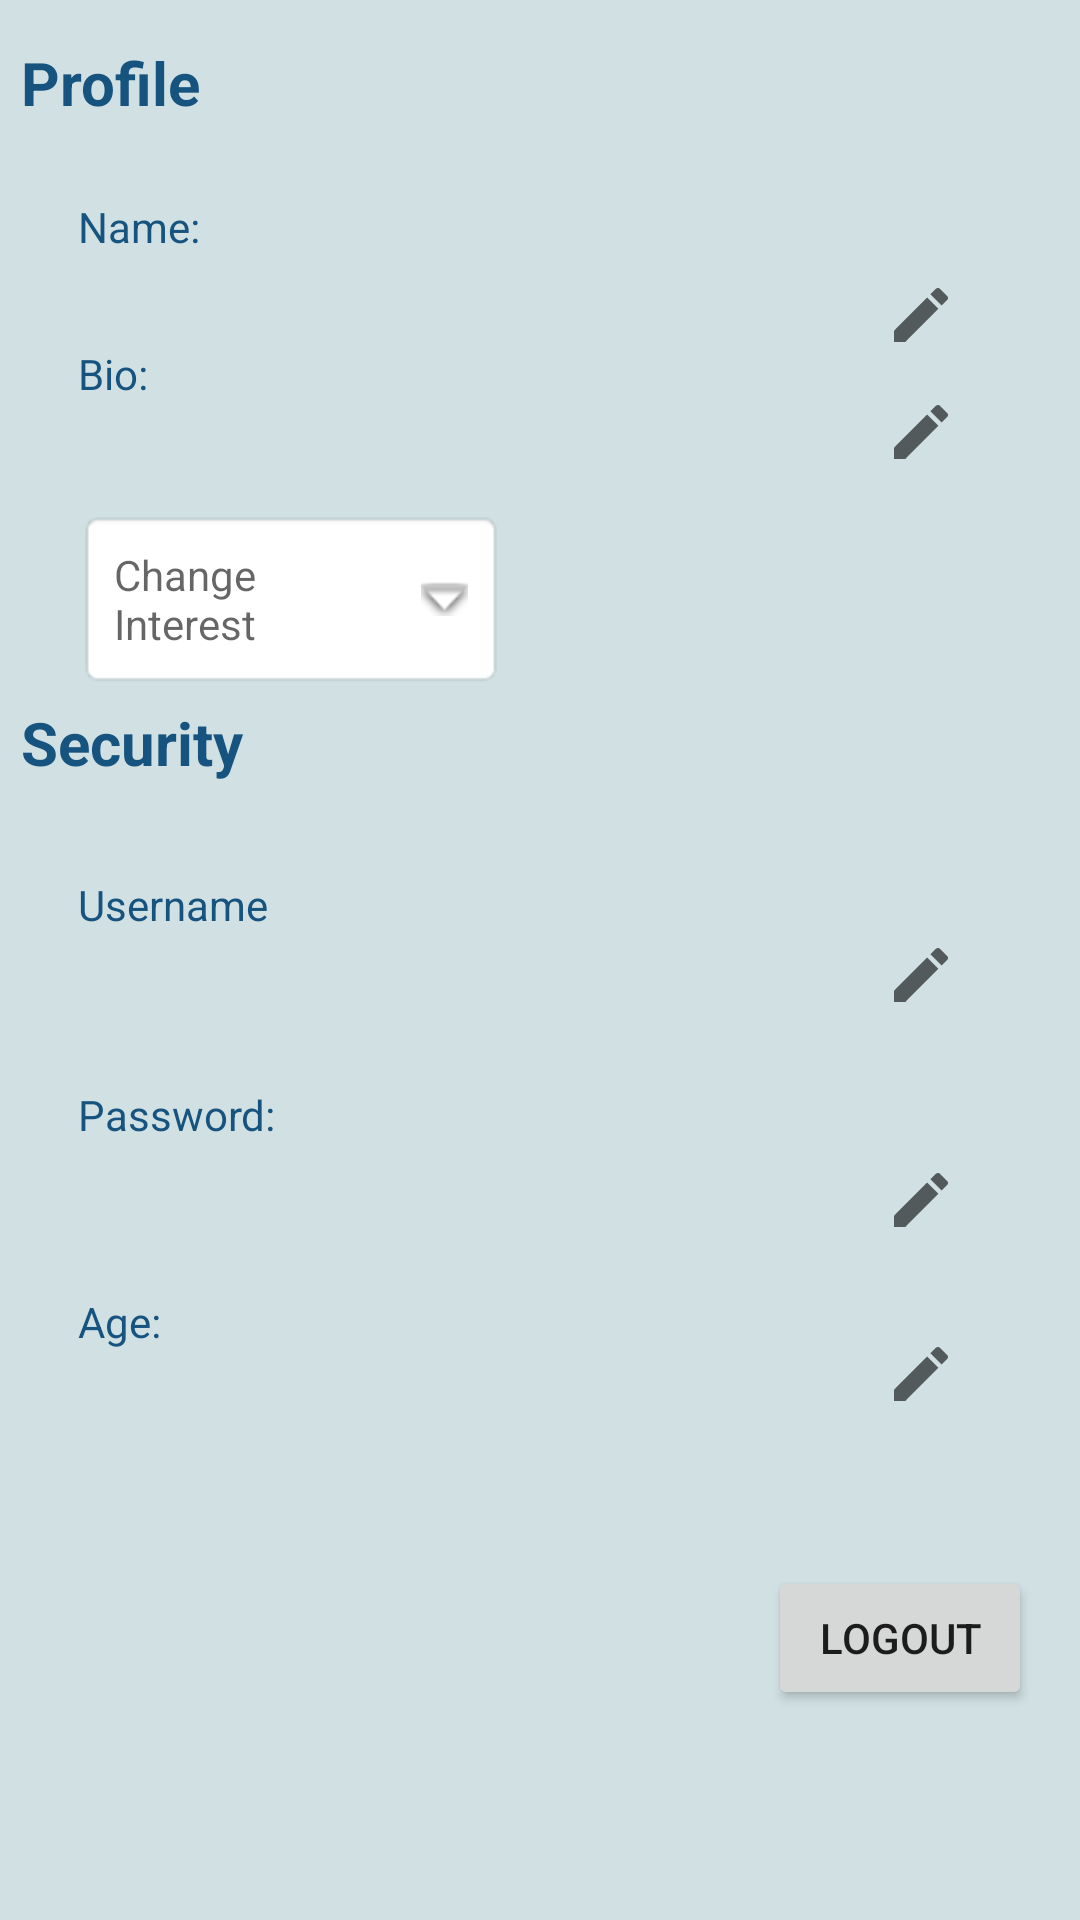

Locate icon controls on the screen. Image size 1080 × 1920, boxes as (x1, y1, x2, y2).
edit: (894, 405, 948, 459), (894, 948, 948, 1002), (894, 1173, 948, 1227), (894, 1347, 948, 1401)
Edit button: (894, 288, 948, 342)
